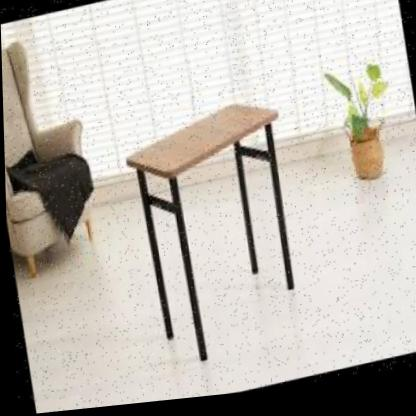Table: (113, 82, 314, 379)
